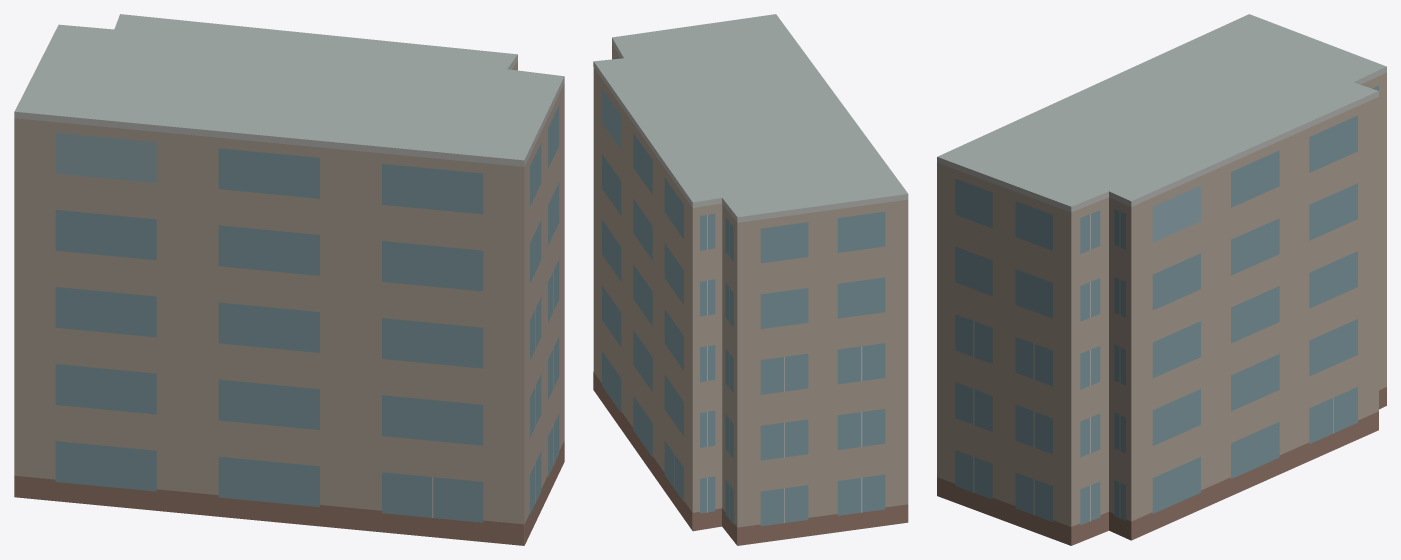
The model's file is survey-upis-32907138.glb.
3 renders of one model, left to right at view 1: azimuth 30°, elevation 25°; view 2: azimuth 150°, elevation 25°; view 3: azimuth 270°, elevation 25°, orthographic. The views are drawn at different scales.
Visible parts, largest first — view 1: survey-upis-32907138.tmp; view 2: survey-upis-32907138.tmp; view 3: survey-upis-32907138.tmp.
Part boxes in pixels (x1,y1,x2,y2): survey-upis-32907138.tmp: (14, 14, 564, 545); survey-upis-32907138.tmp: (593, 14, 908, 545); survey-upis-32907138.tmp: (937, 14, 1386, 545).
Size of the model in its own units: 17.56 by 14.4 by 17.31.
